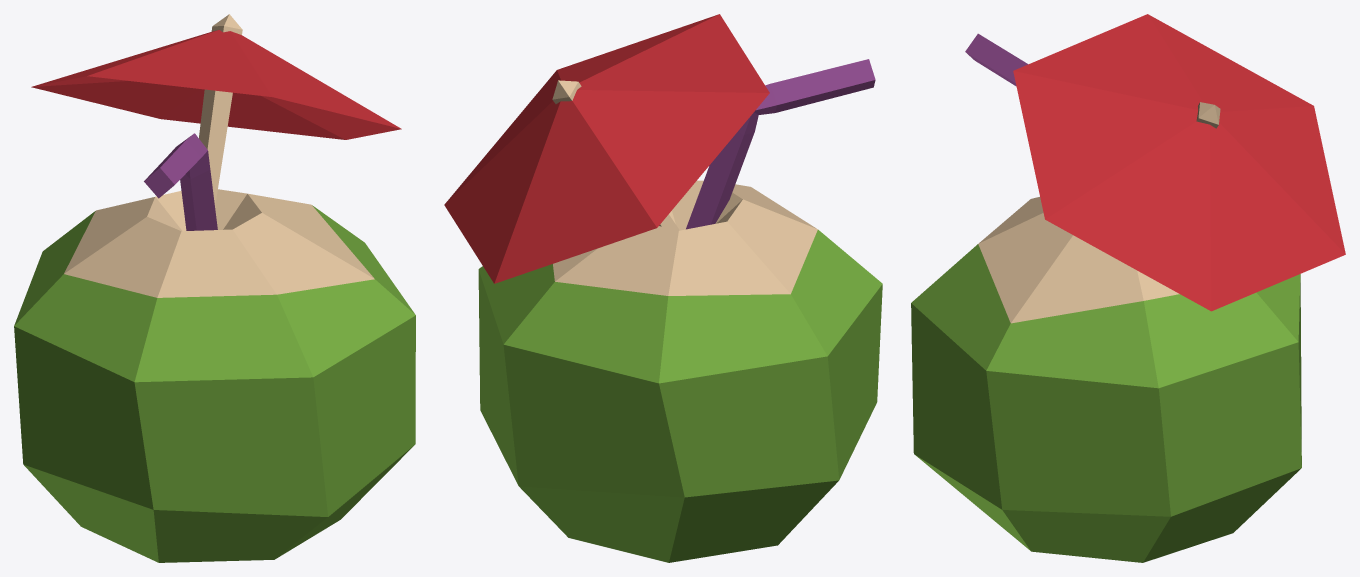
The model's file is drinks-drink-coconut.glb.
The picture shows the model from 3 angles, left to right: view 1: azimuth 30°, elevation 25°; view 2: azimuth 150°, elevation 25°; view 3: azimuth 270°, elevation 25°; orthographic projection.
Parts seen in each view (by area): view 1: drink-coconut; view 2: drink-coconut; view 3: drink-coconut.
Part boxes in pixels (box(x1,y1,x2,y2)): drink-coconut: box(14, 14, 415, 562); drink-coconut: box(444, 14, 882, 562); drink-coconut: box(911, 14, 1345, 562).
Bounding box in the file's own units: 0.192 × 0.2437 × 0.2044.
